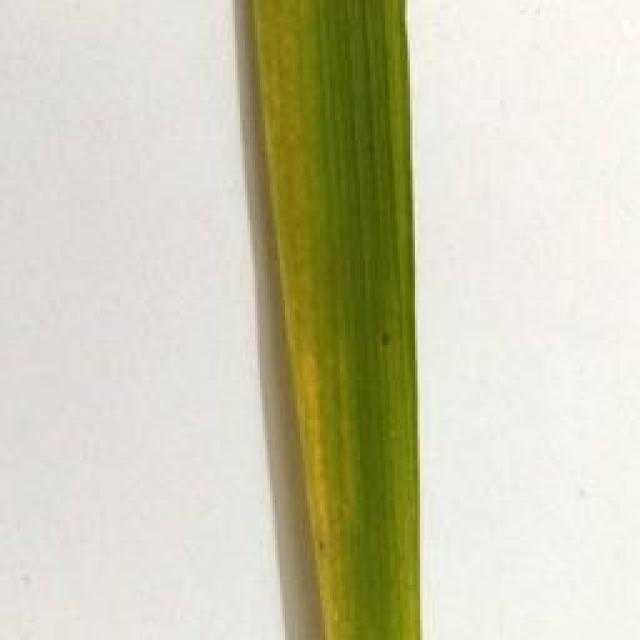Brown_Spot: (372, 324, 397, 357), (316, 538, 329, 556)
